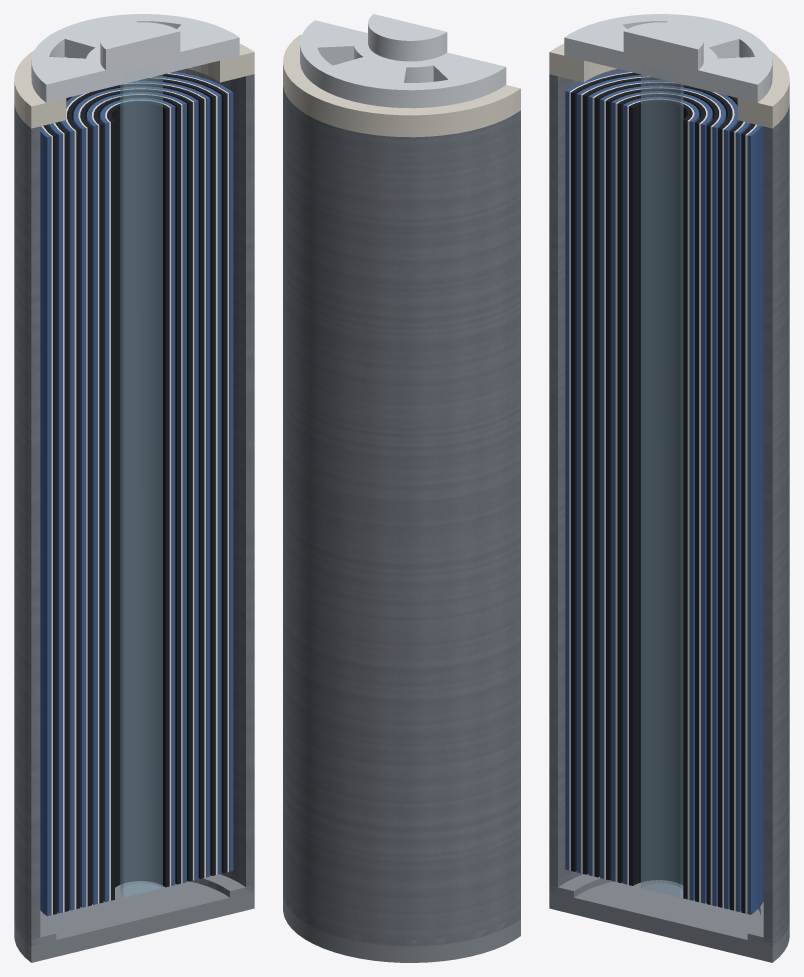
File: lithium-ion-cell.glb
The picture shows the model from 3 angles, left to right: view 1: azimuth 30°, elevation 25°; view 2: azimuth 150°, elevation 25°; view 3: azimuth 330°, elevation 25°; orthographic projection.
Visible parts, largest first — view 1: JellyRoll, SteelCan, CentralMandrel, PositiveCap, NegativeBase, GasketRing; view 2: SteelCan, PositiveCap, GasketRing, NegativeBase; view 3: JellyRoll, SteelCan, CentralMandrel, PositiveCap, NegativeBase, GasketRing.
Boxes of the visible parts, bbox=[...] form: JellyRoll: bbox=[40, 71, 233, 916]; SteelCan: bbox=[14, 68, 254, 945]; CentralMandrel: bbox=[120, 67, 162, 897]; PositiveCap: bbox=[31, 14, 239, 102]; NegativeBase: bbox=[14, 874, 254, 962]; GasketRing: bbox=[14, 43, 254, 128]; SteelCan: bbox=[283, 86, 520, 946]; PositiveCap: bbox=[300, 14, 506, 108]; GasketRing: bbox=[283, 34, 520, 137]; NegativeBase: bbox=[283, 889, 520, 962]; JellyRoll: bbox=[565, 70, 763, 914]; SteelCan: bbox=[549, 68, 789, 945]; CentralMandrel: bbox=[641, 64, 683, 897]; PositiveCap: bbox=[564, 14, 772, 102]; NegativeBase: bbox=[549, 874, 789, 962]; GasketRing: bbox=[549, 43, 789, 128].
Bounding box in the file's own units: 1.8 × 6.9 × 0.9.
Materials: 8 (1 with a texture image).
